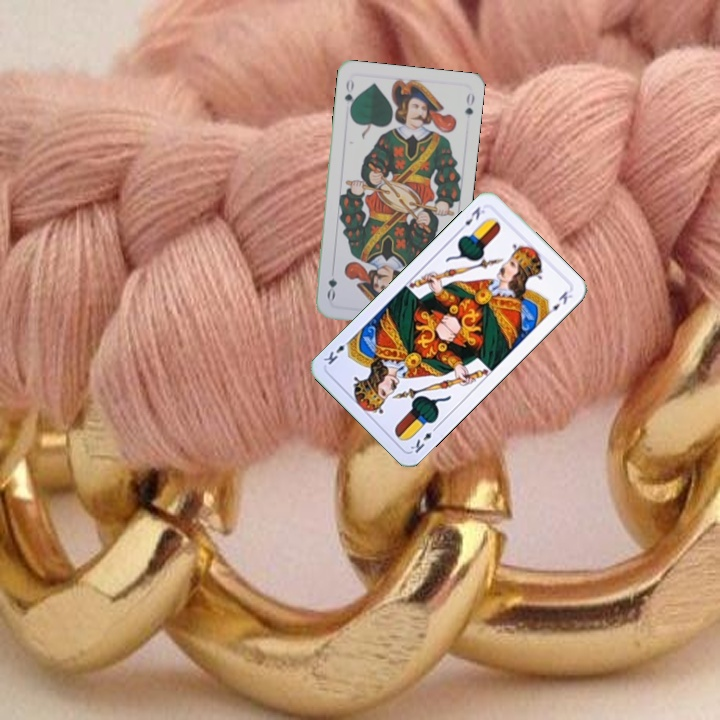EK: (406, 421, 441, 456), (455, 202, 488, 234)
GO: (340, 75, 358, 116)
